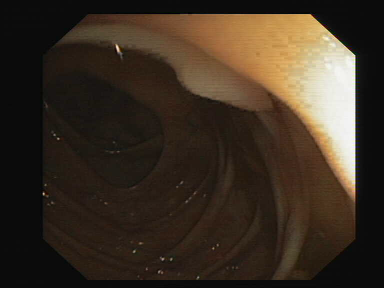polyp: (165, 37, 266, 130)
